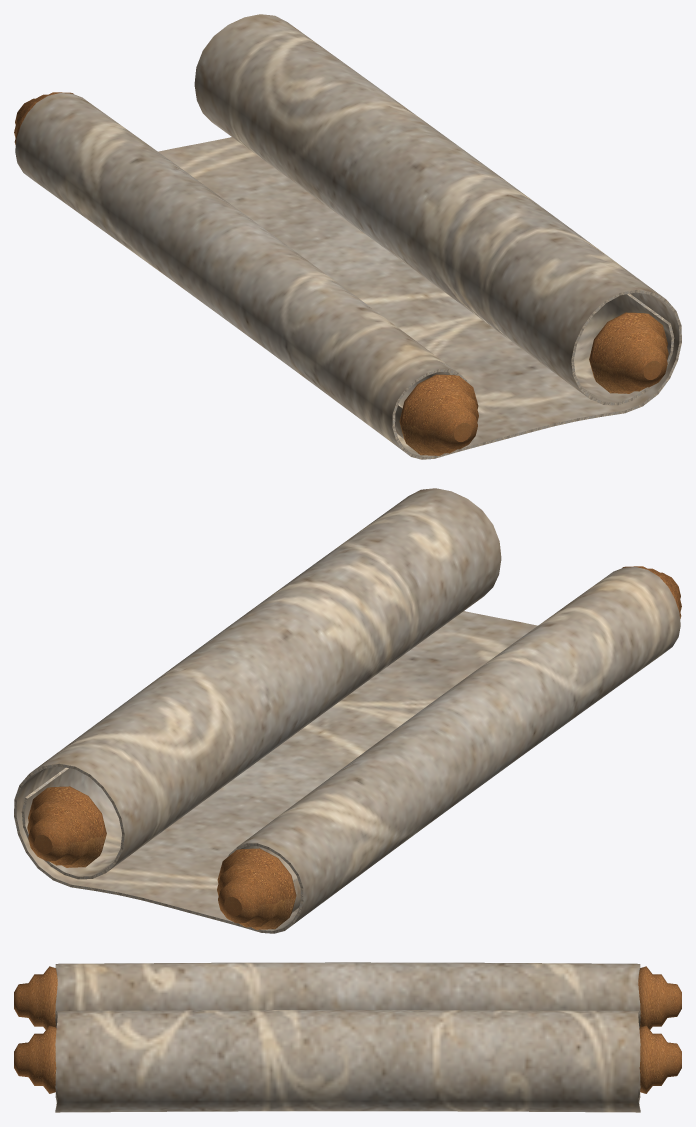
The model's file is item_scroll4.glb.
3 views of the same model, one above another, from view 1: azimuth 30°, elevation 25°; view 2: azimuth 150°, elevation 25°; view 3: azimuth 270°, elevation 25° (orthographic). The views are drawn at different scales.
Visible parts, largest first — view 1: scroll_scroll4; view 2: scroll_scroll4; view 3: scroll_scroll4.
Part boxes in pixels (x1=…): scroll_scroll4: x1=14, y1=14, x2=681, y2=459; scroll_scroll4: x1=14, y1=488, x2=681, y2=933; scroll_scroll4: x1=14, y1=962, x2=681, y2=1112.
Size of the model in its own units: 0.4435 by 0.1783 by 1.15.
1 material, 1 textured.
